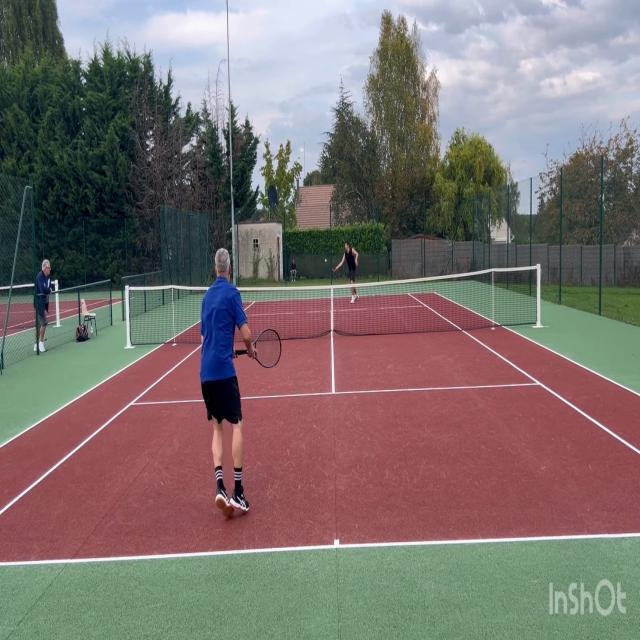ball: (325, 258, 327, 262)
